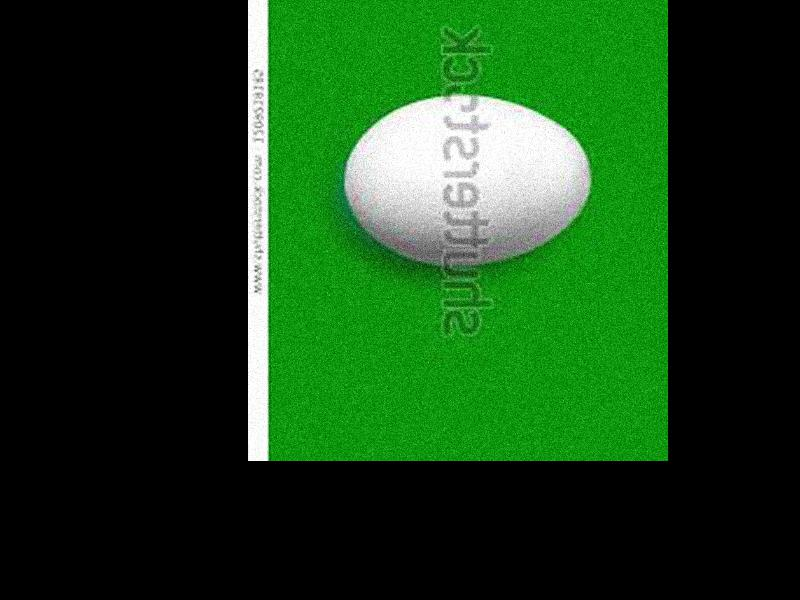Eggs: (346, 96, 591, 267)
